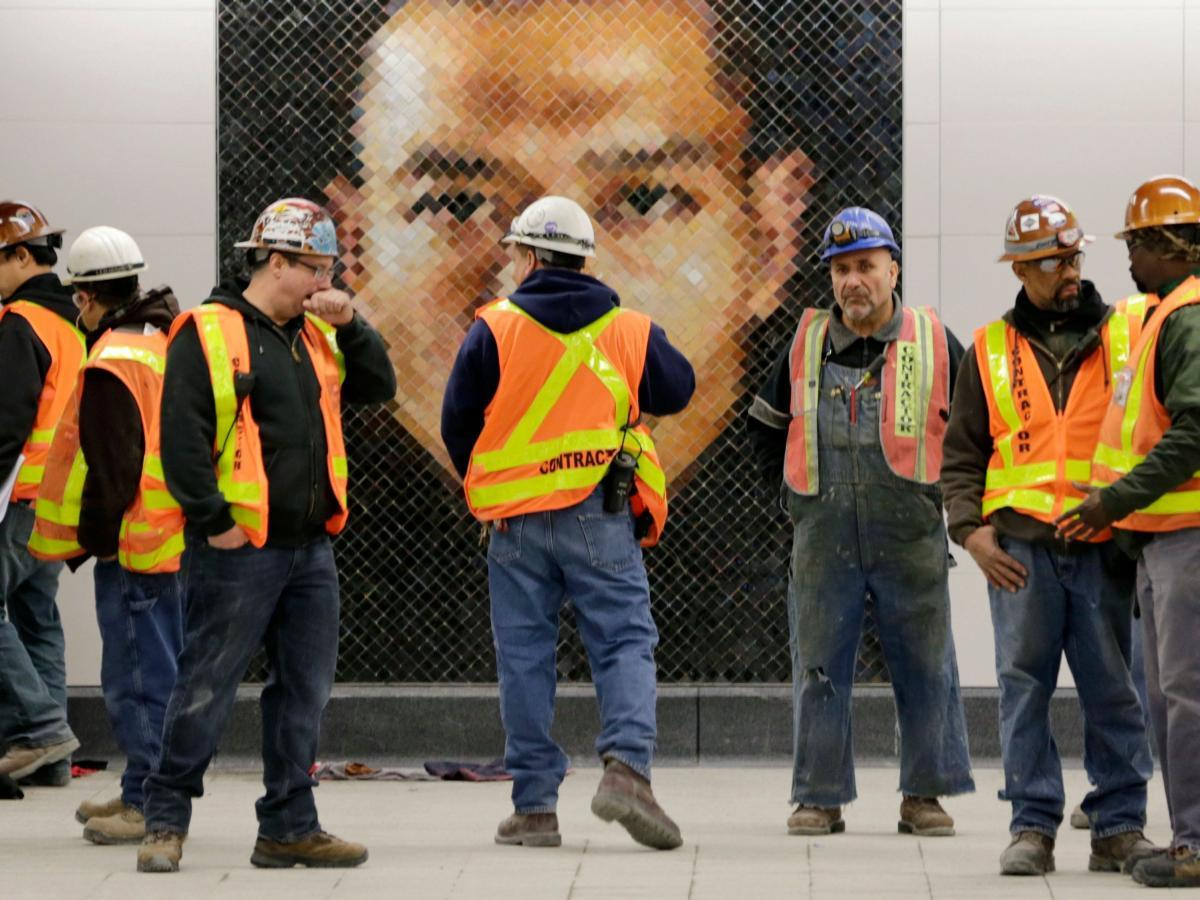helmet: (998, 197, 1088, 270), (240, 195, 335, 262), (64, 227, 145, 294), (505, 200, 598, 258), (822, 202, 904, 267), (1112, 178, 1200, 238), (1, 200, 62, 260)
